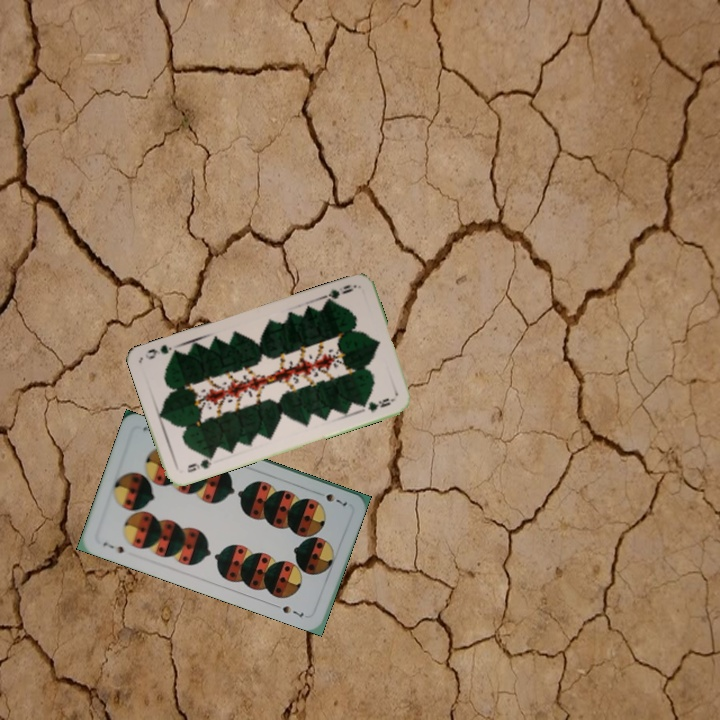G9: (319, 280, 359, 307), (183, 451, 216, 475)
S7: (312, 488, 350, 509), (98, 538, 126, 556)
